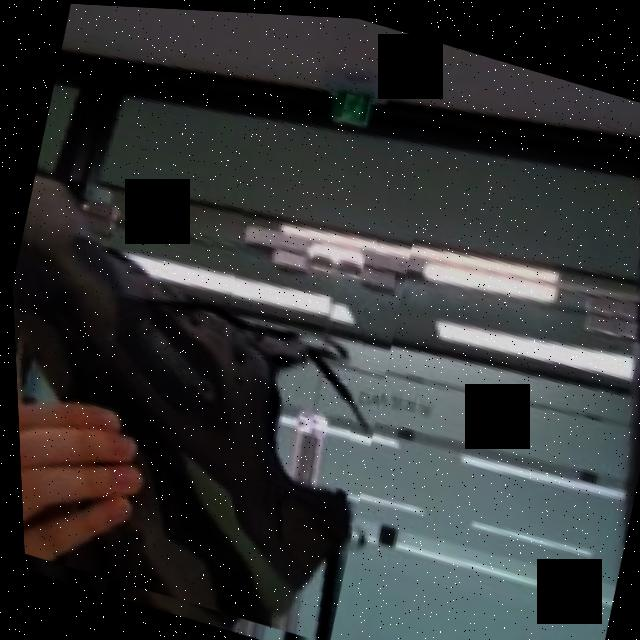shoe: (3, 87, 435, 640)
